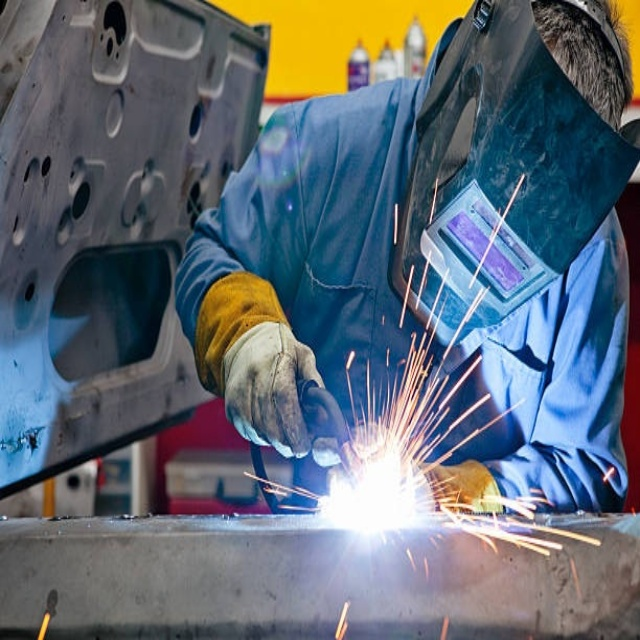Guantes: (196, 269, 342, 465), (425, 458, 506, 514)
